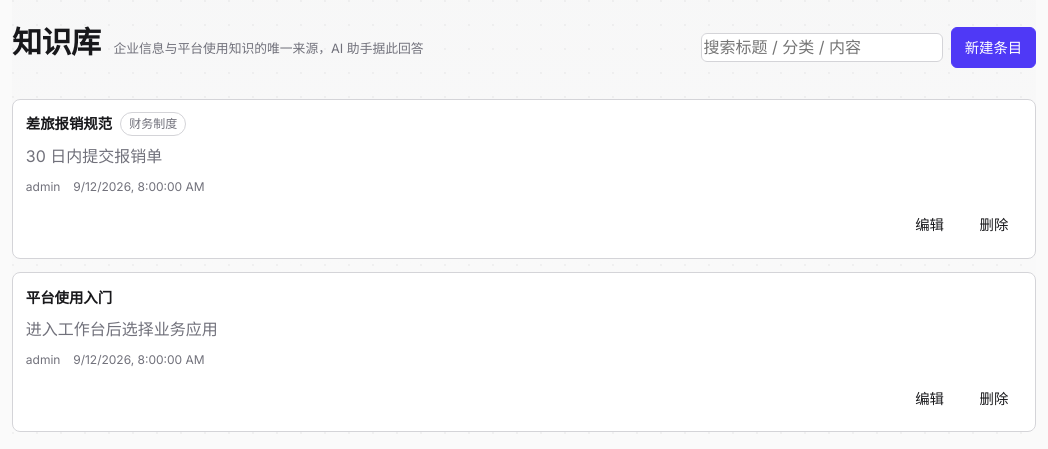
Test: KnowledgeView 列表与搜索（P28，FR-KB-01） › 搜索按标题/分类/内容过滤且无匹配有空态
Type "报销" into the search field with test id "kb-search" at (822, 48), box [701,33,943,62]
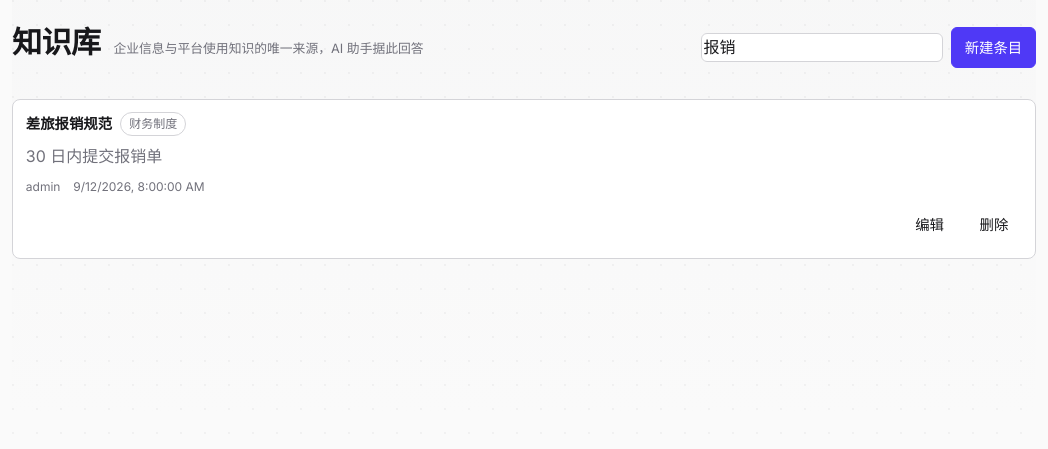
Replace the text in the search field with test id "kb-search" with "不存在关键词" at (822, 48), box [701,33,943,62]
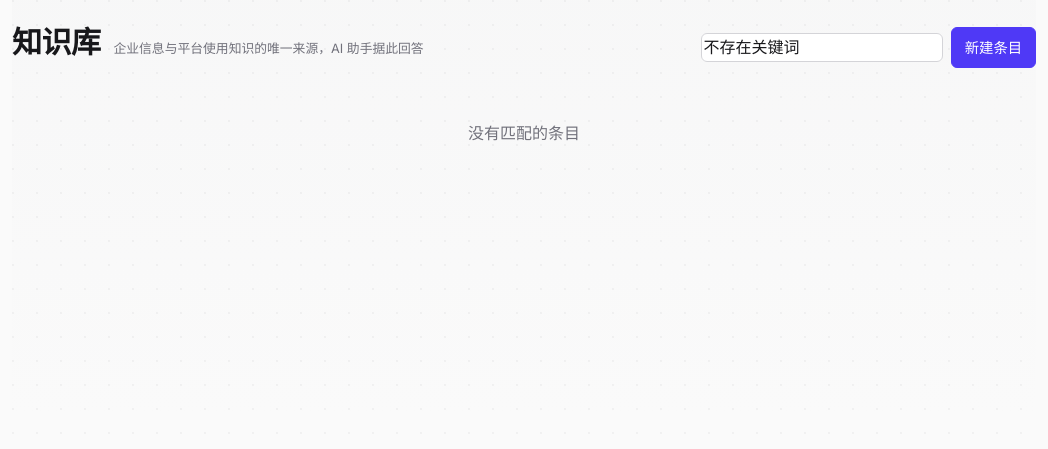
Expected: the text "没有匹配的条目" is shown, [468,123,580,143]
